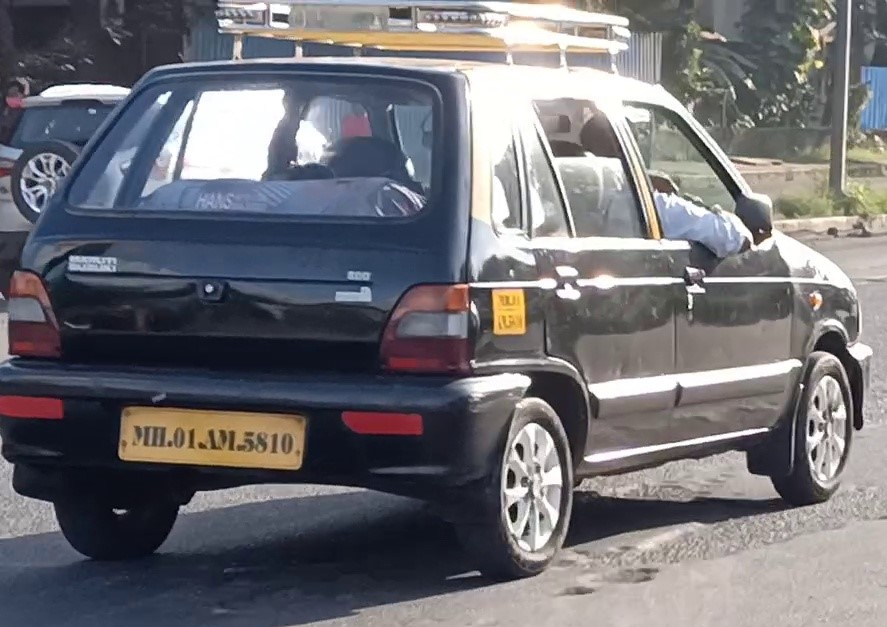MH01AM5810: (118, 404, 306, 471)
